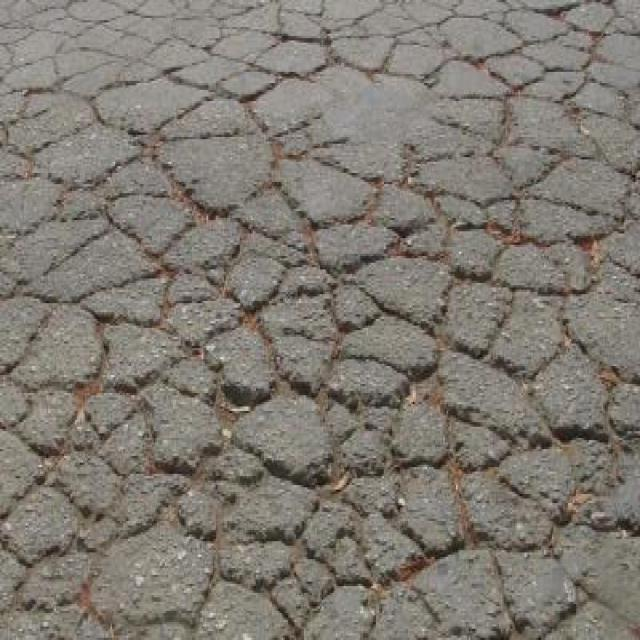Drain Hole: (115, 101, 640, 638)
